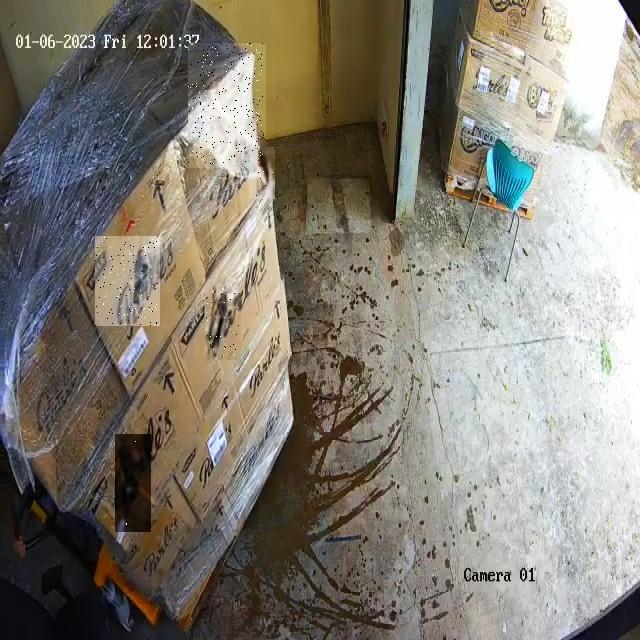leakage: (96, 236, 158, 326), (116, 435, 149, 531), (206, 293, 240, 360), (249, 147, 275, 199)
squeeze: (189, 44, 264, 166)
